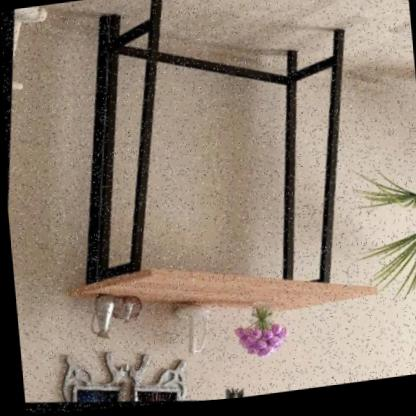Table: (15, 0, 416, 406)
